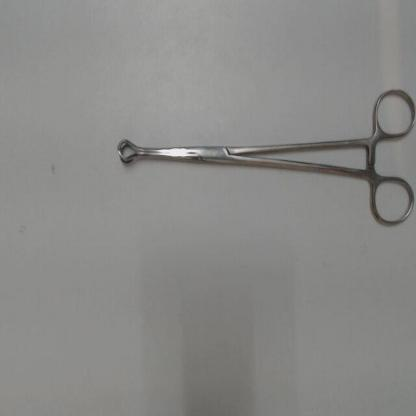8 Babcock Tissue Forceps: (106, 79, 416, 234)
